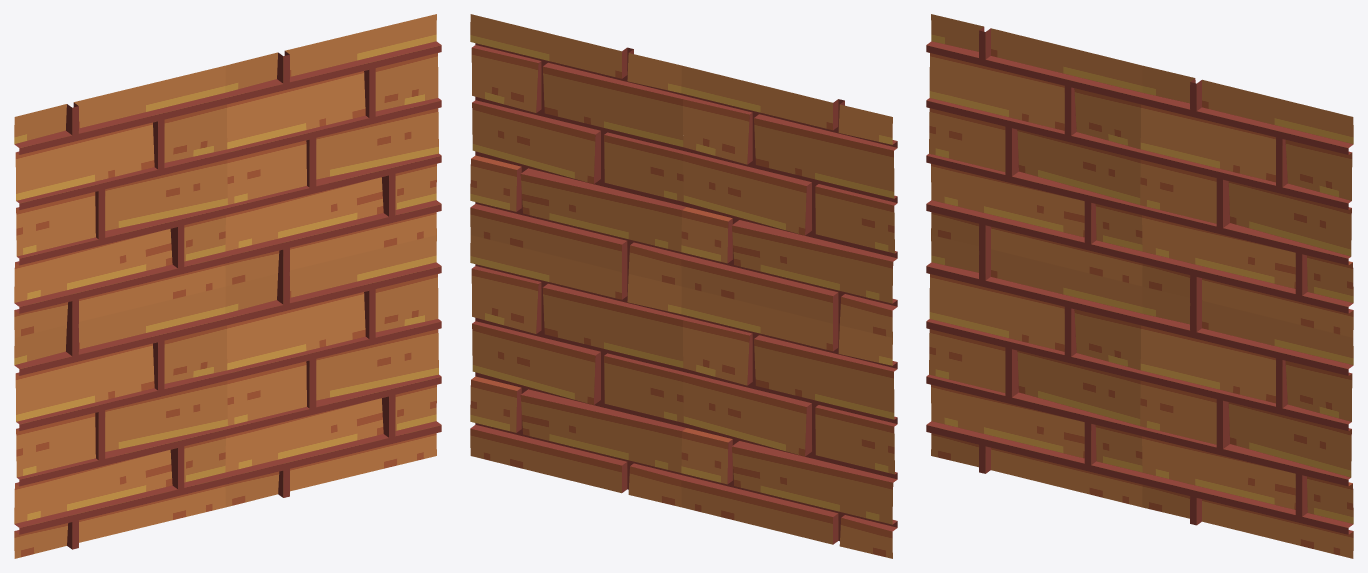
File: Kayu.fbx
3 views of the same model, side by side, from view 1: azimuth 30°, elevation 25°; view 2: azimuth 150°, elevation 25°; view 3: azimuth 330°, elevation 25° (orthographic).
Visible parts, largest first — view 1: Kayu; view 2: Kayu; view 3: Kayu.
Boxes of the visible parts, <box> form: Kayu: <box>14,14,441,558</box>; Kayu: <box>470,14,897,558</box>; Kayu: <box>926,14,1353,558</box>.
Size of the model in its own units: 2.95 by 94.81 by 94.81.
